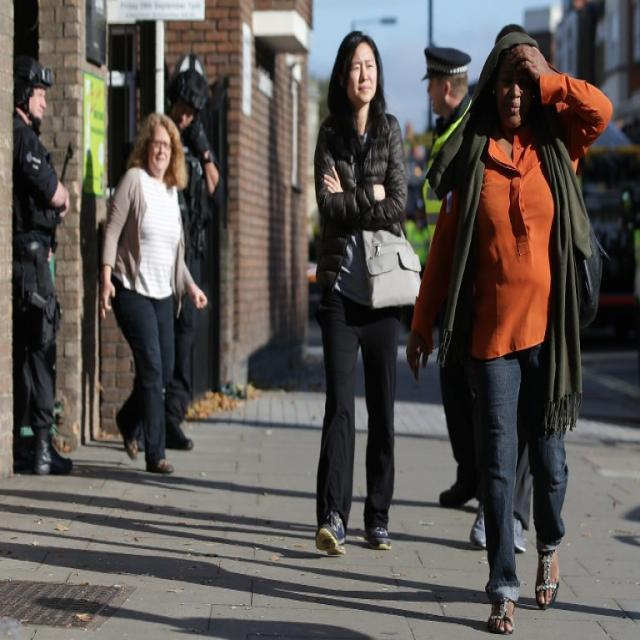body: (402, 26, 616, 639), (0, 454, 639, 639), (306, 28, 426, 558), (97, 108, 209, 476), (13, 54, 75, 478), (421, 46, 477, 508), (162, 66, 226, 452), (76, 142, 105, 456), (492, 18, 526, 42)
